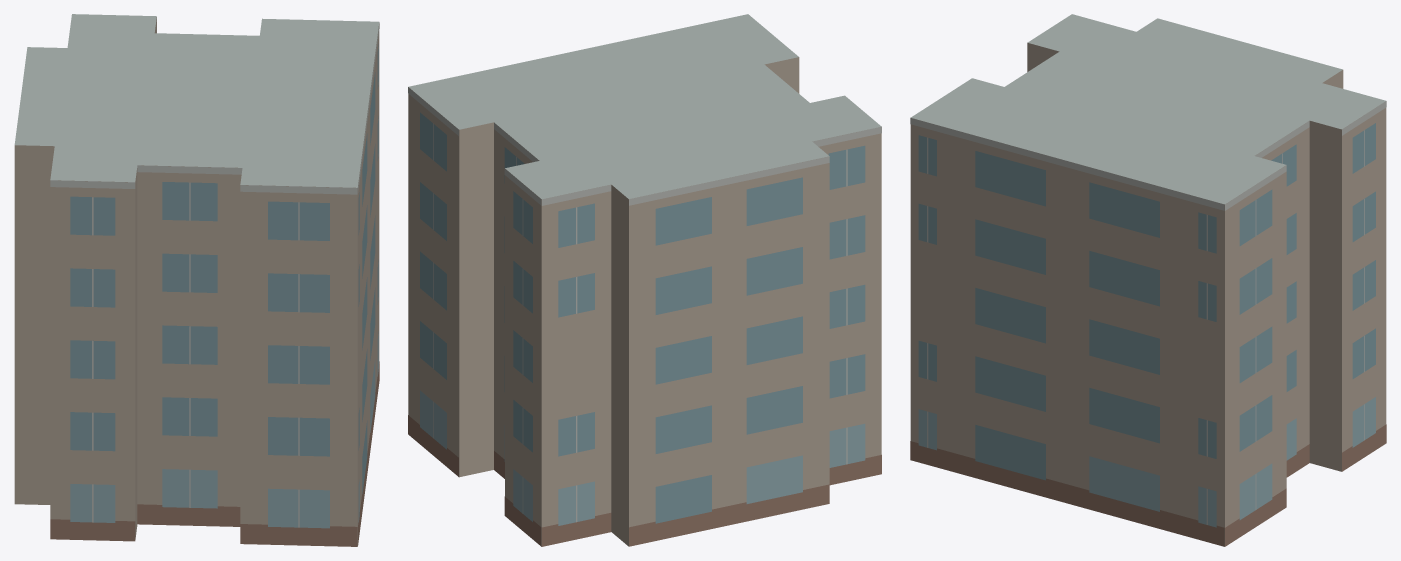
Rendered from survey-upis-32610237.glb.
3 views of the same model, side by side, from view 1: azimuth 30°, elevation 25°; view 2: azimuth 150°, elevation 25°; view 3: azimuth 270°, elevation 25° (orthographic). The views are drawn at different scales.
Parts seen in each view (by area): view 1: survey-upis-32610237.tmp; view 2: survey-upis-32610237.tmp; view 3: survey-upis-32610237.tmp.
Boxes of the visible parts, bbox=[...] form: survey-upis-32610237.tmp: bbox=[14, 14, 379, 546]; survey-upis-32610237.tmp: bbox=[408, 14, 881, 546]; survey-upis-32610237.tmp: bbox=[910, 14, 1386, 546].
Bounding box in the file's own units: 15.28 × 12.8 × 16.13.
